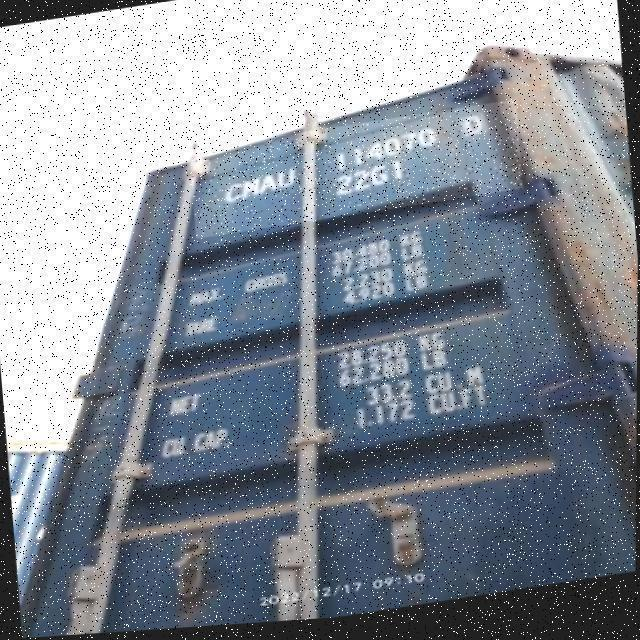ISO: (332, 160, 403, 210)
container_number: (220, 108, 498, 200)
